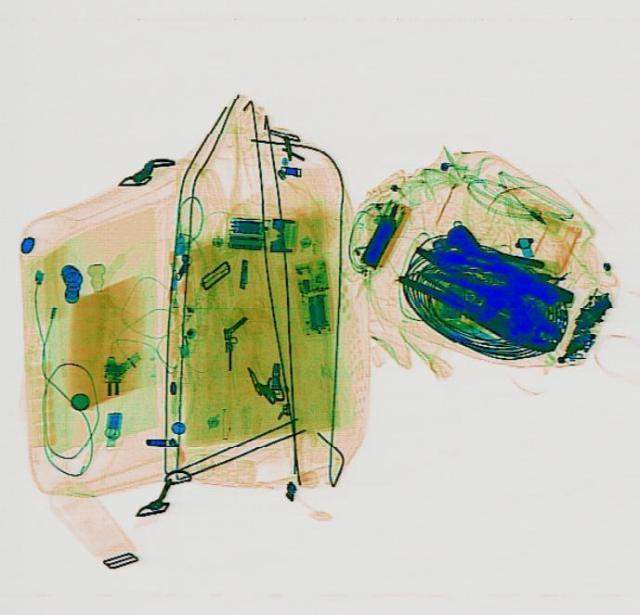Pliers: (390, 238, 574, 359)
